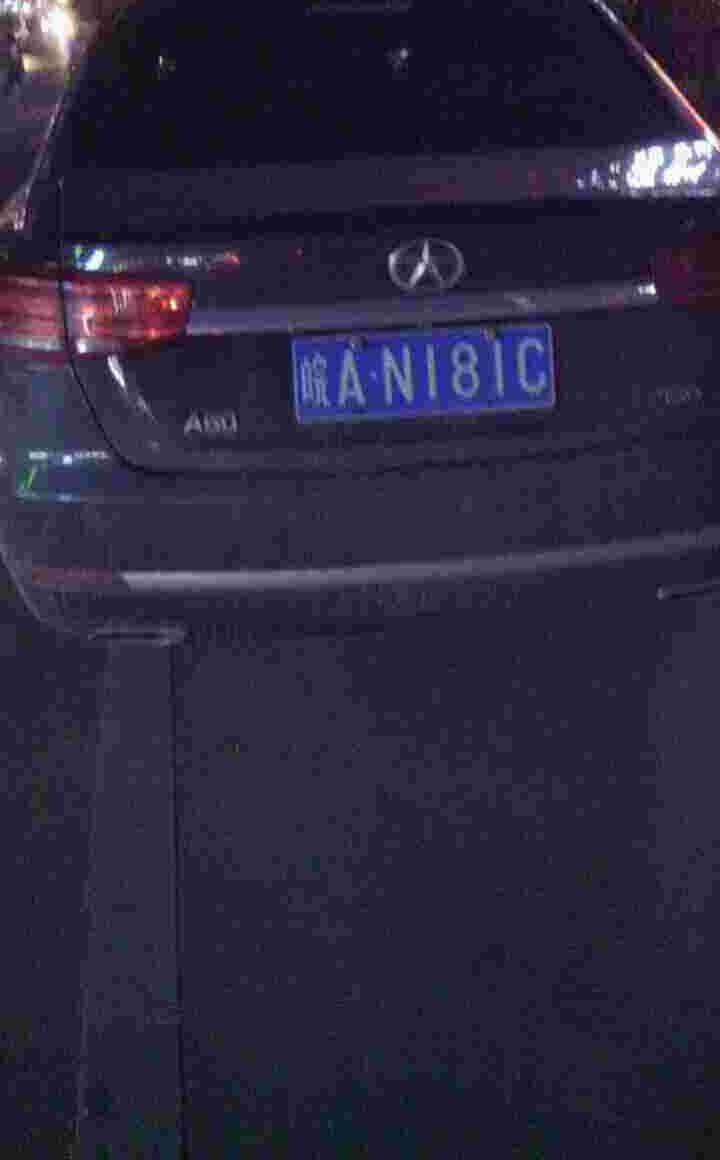license_plate: (293, 321, 553, 432)
